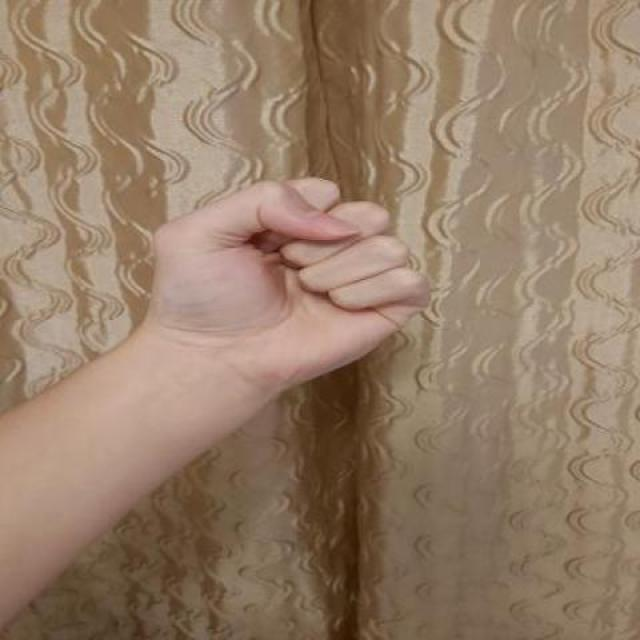Closed Hand: (118, 146, 438, 405)
